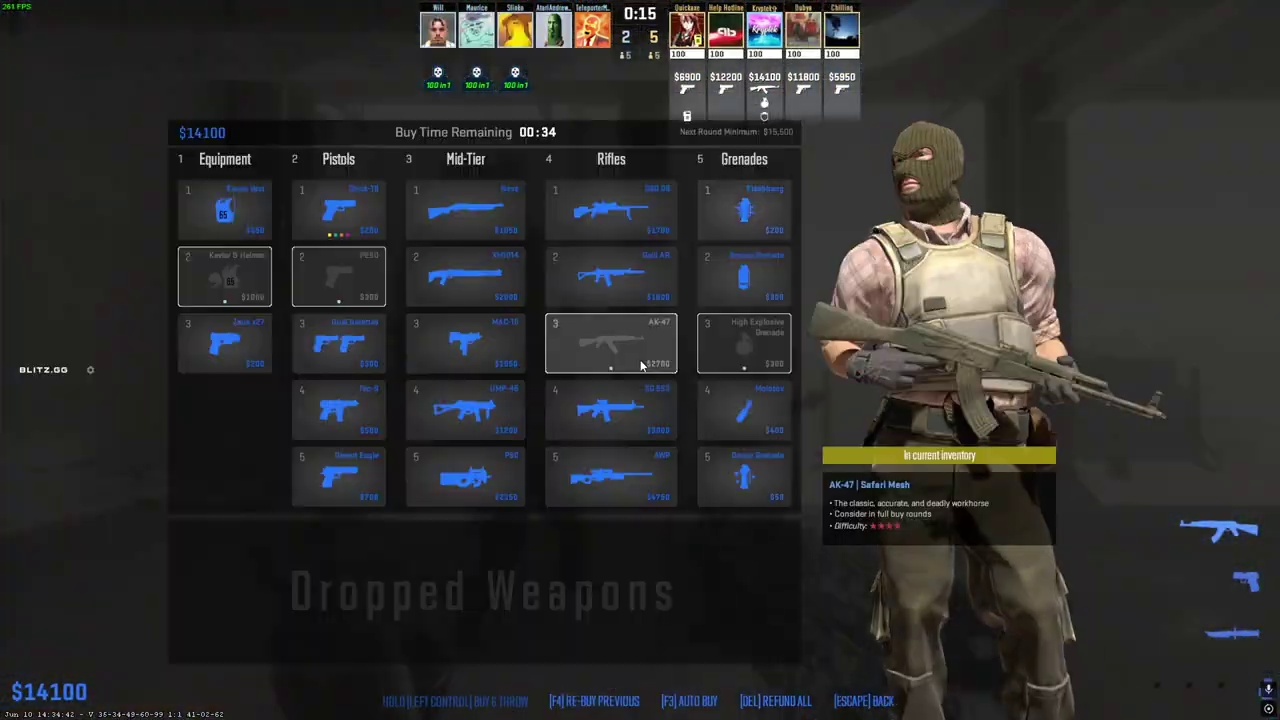Terrorist: (845, 121, 1078, 720)
